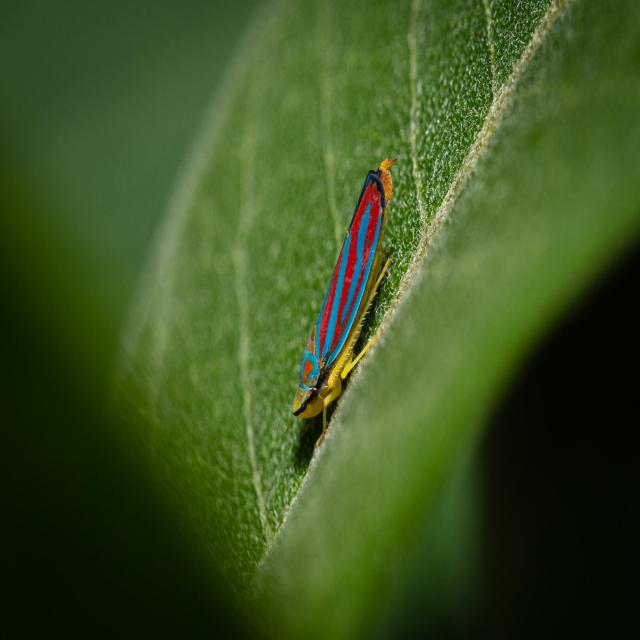Yechan: (288, 152, 413, 455)
